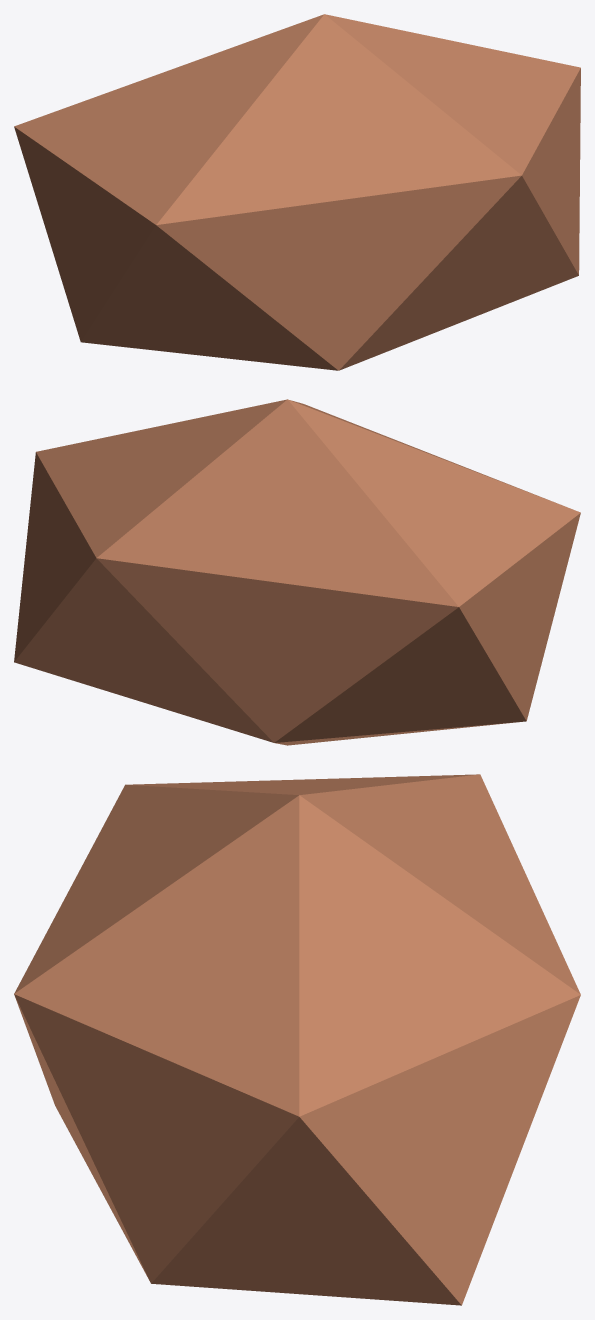
File: item_075_iron_ore_s.glb
3 renders of one model, top to bottom at view 1: azimuth 30°, elevation 25°; view 2: azimuth 150°, elevation 25°; view 3: azimuth 270°, elevation 25°, orthographic. The views are drawn at different scales.
Visible parts, largest first — view 1: item_075_iron_ore_s; view 2: item_075_iron_ore_s; view 3: item_075_iron_ore_s.
Boxes of the visible parts, bbox=[...] form: item_075_iron_ore_s: bbox=[14, 14, 580, 370]; item_075_iron_ore_s: bbox=[14, 399, 580, 745]; item_075_iron_ore_s: bbox=[14, 774, 580, 1305].
Size of the model in its own units: 0.2973 by 0.2004 by 0.2189.
